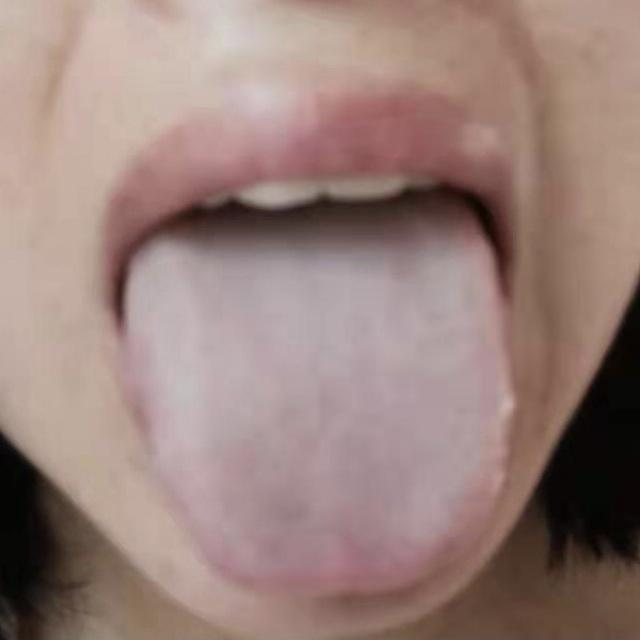baitaishe: (123, 217, 516, 602)
